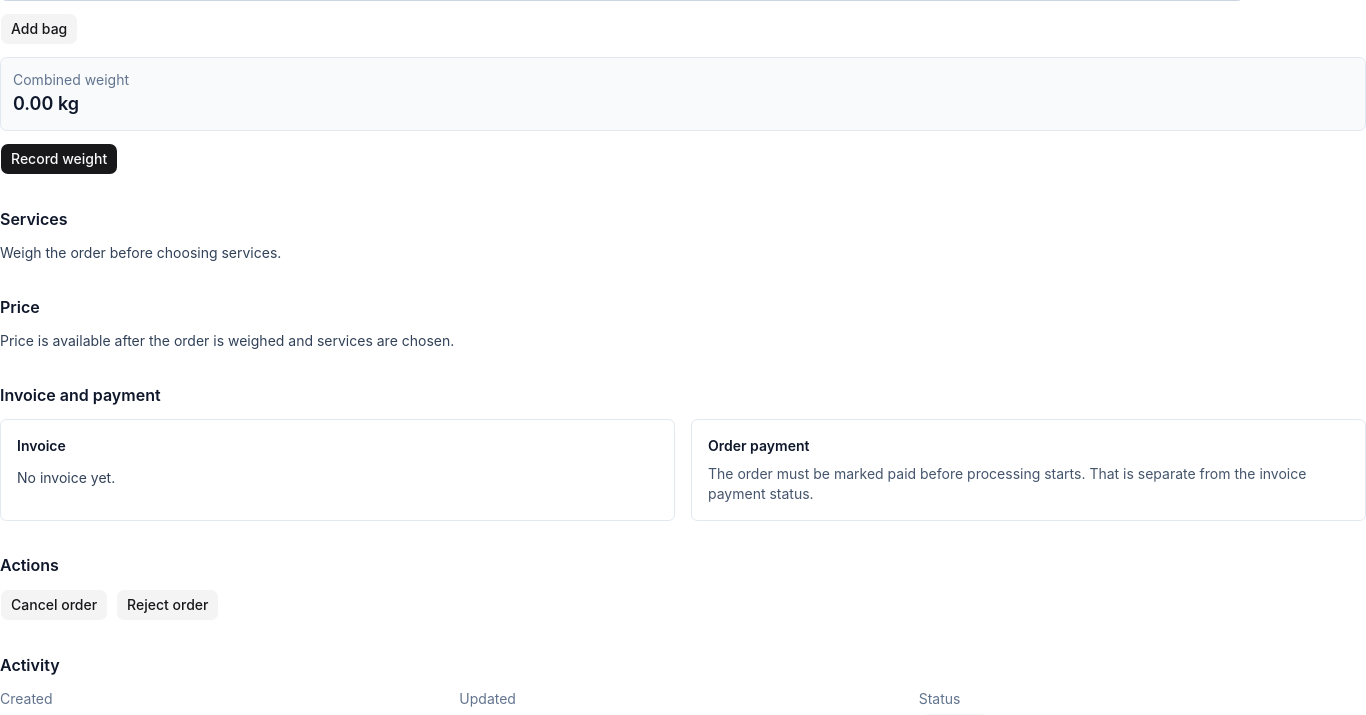
Test: order page lifecycle actions (#165) › case 5: a failure with a server message shows it in Actions, and the status stays as refetched
(page scrolled)
Expected: the element with id "laundry-order-actions" is shown, [0,555,219,621]
Click the button "Reject order". click: (168, 605)
box: [116,589,219,621]
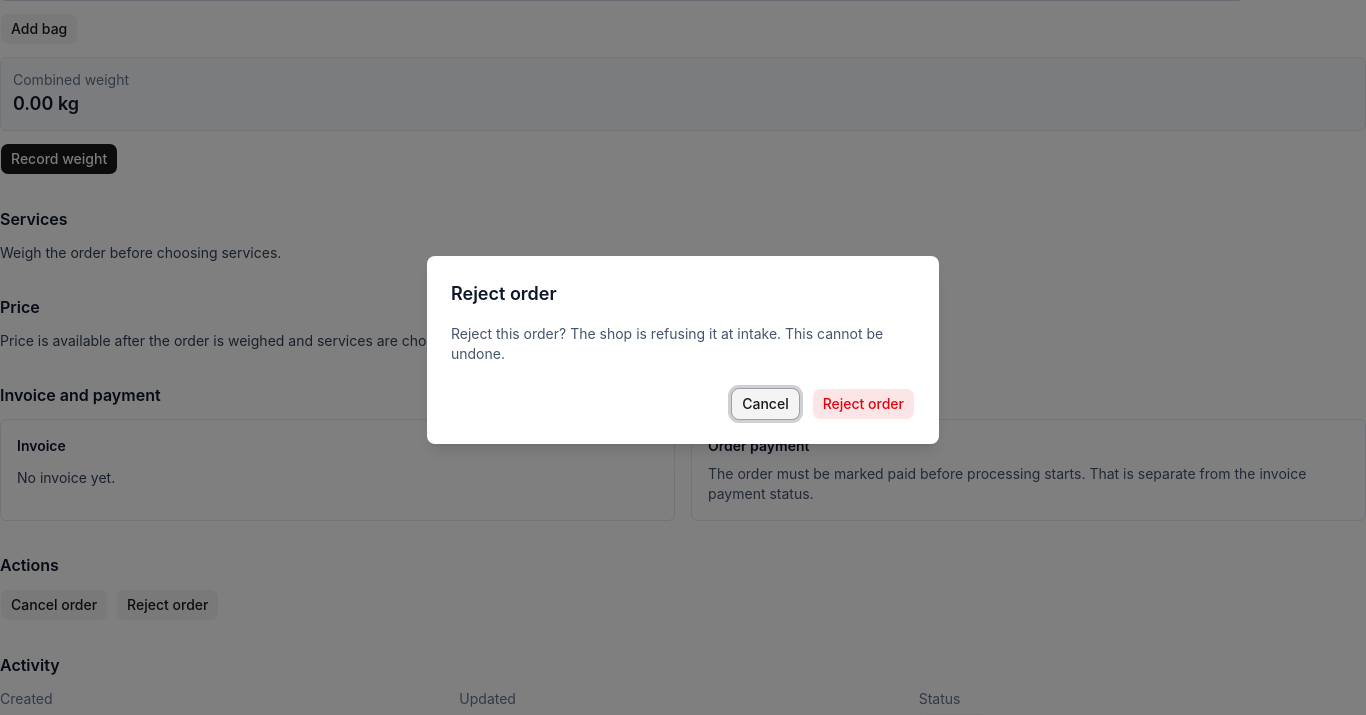
Expected: the button "Reject order" is shown
Click the button "Reject order". click: (863, 404)
box: [812,388,915,420]
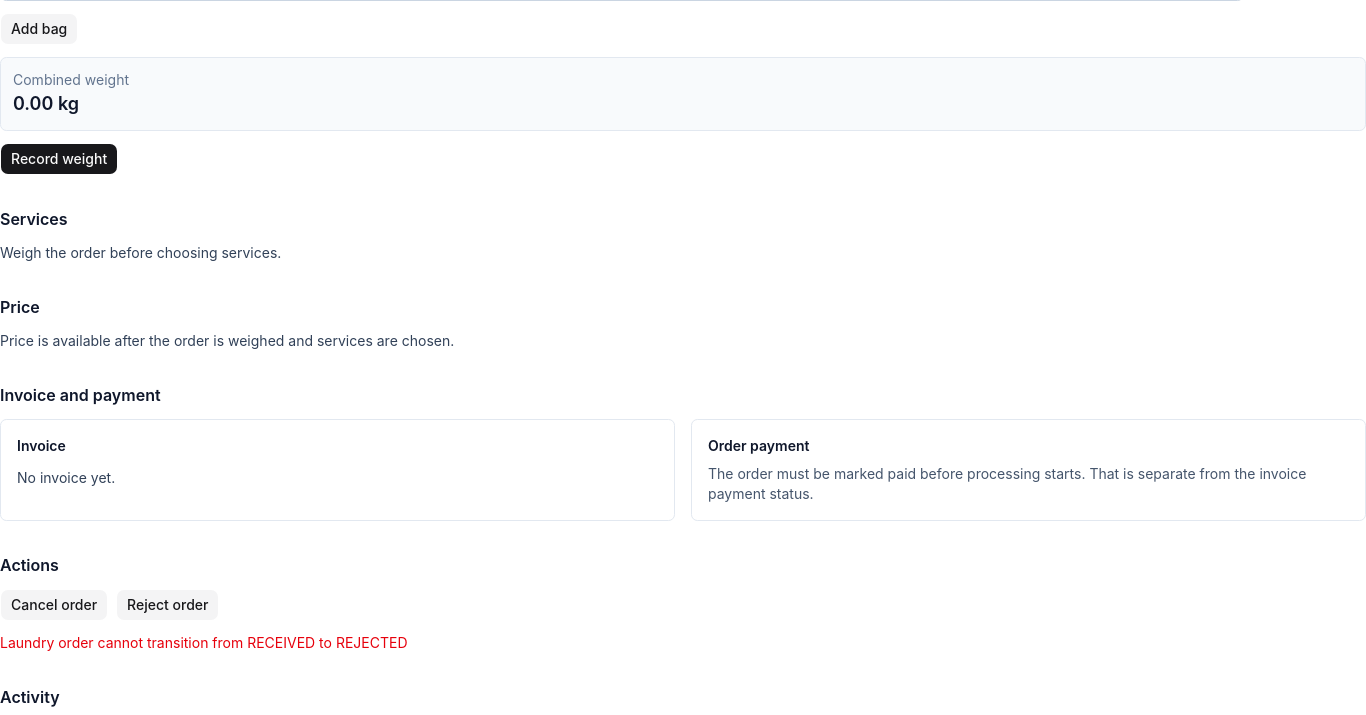
Expected: the element with id "laundry-order-actions" is shown, [0,555,408,651]
Expected: the dialog is gone
